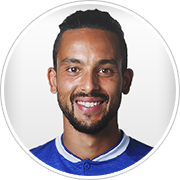face: (45, 42, 135, 122)
